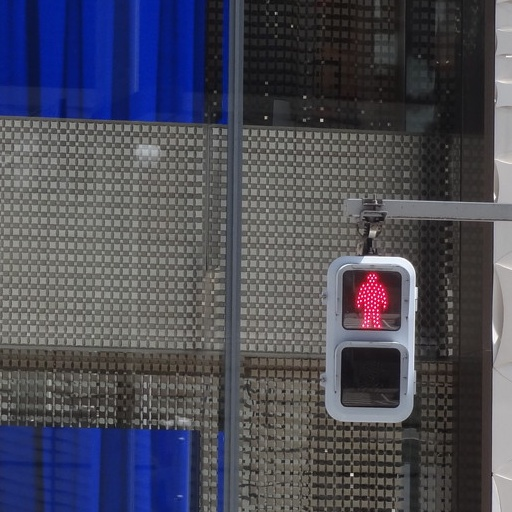Pedestrian_Signal_Red: (328, 248, 409, 420)
